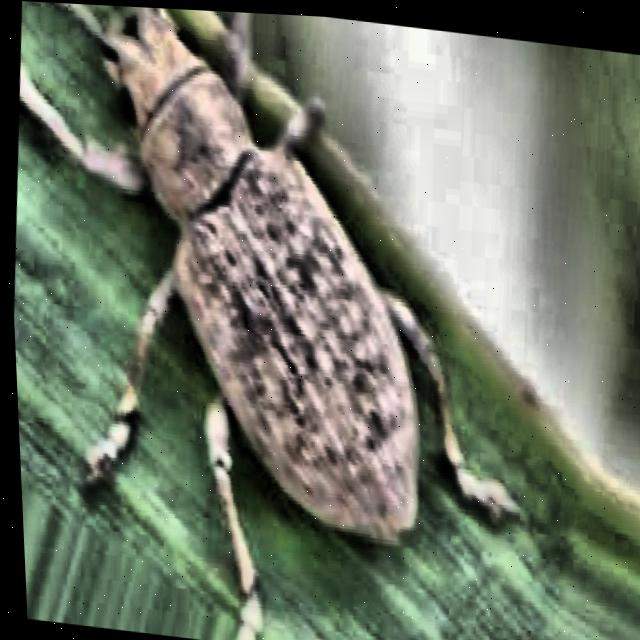Stink bug: (0, 0, 493, 614)
